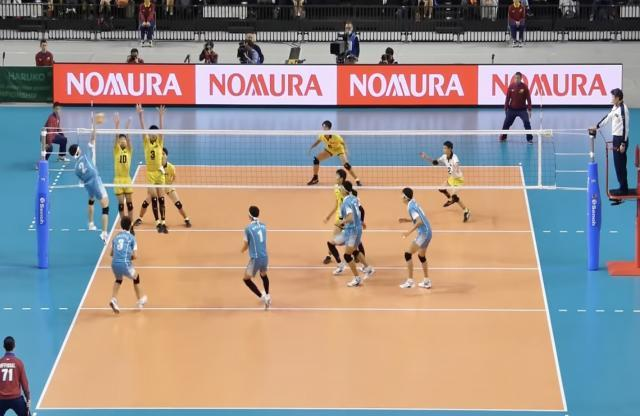spike: (66, 111, 112, 244)
